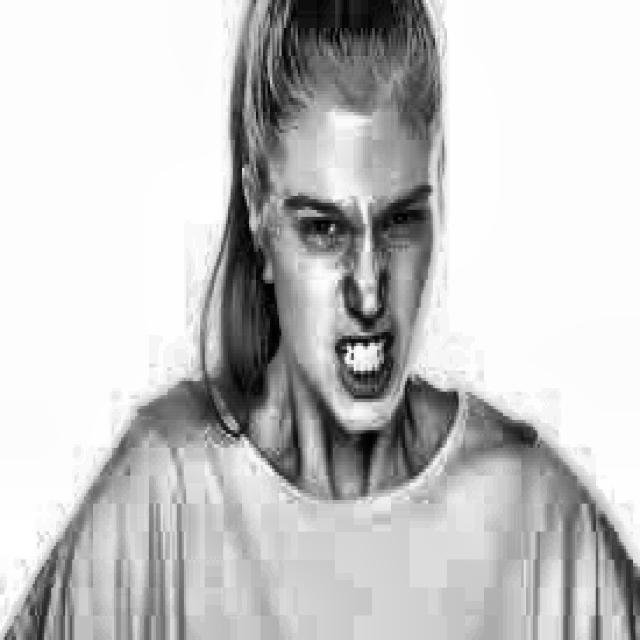angry: (212, 3, 454, 440)
